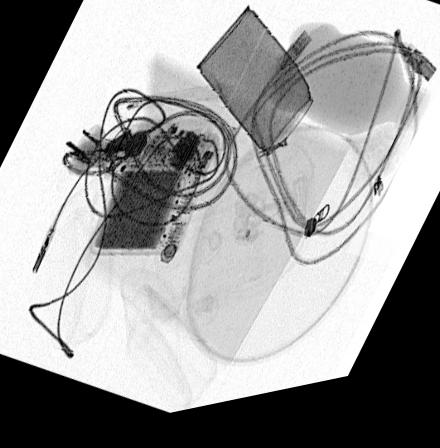Powerbank: (90, 169, 206, 262)
